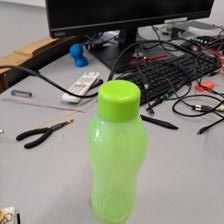bottle: (91, 78, 149, 223)
